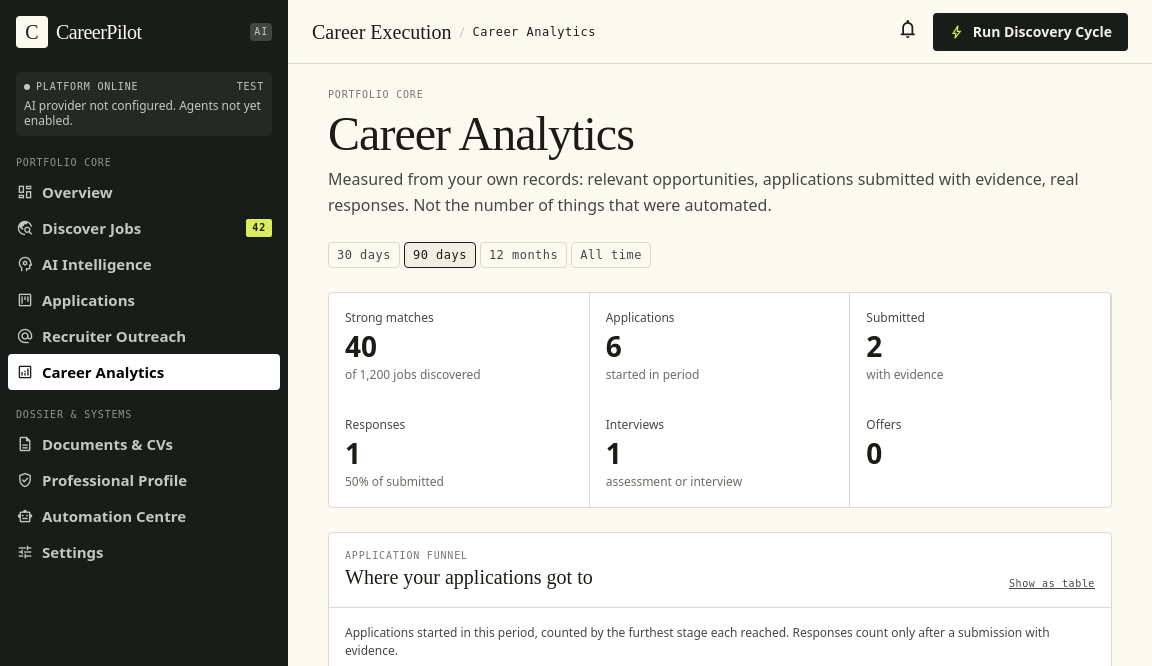
Test case: career analytics › shows funnel, low-sample rates and table views from the API, and generates a report
The image size is (1152, 666).
Expected: the heading "Career Analytics" is shown, [328,107,634,160]
Expected: the text "of 1,200 jobs discovered" is shown, [345,366,481,383]
# Every chart has a table view.
Click the button "Show as table" at (1052,584), box [1009,577,1095,591]
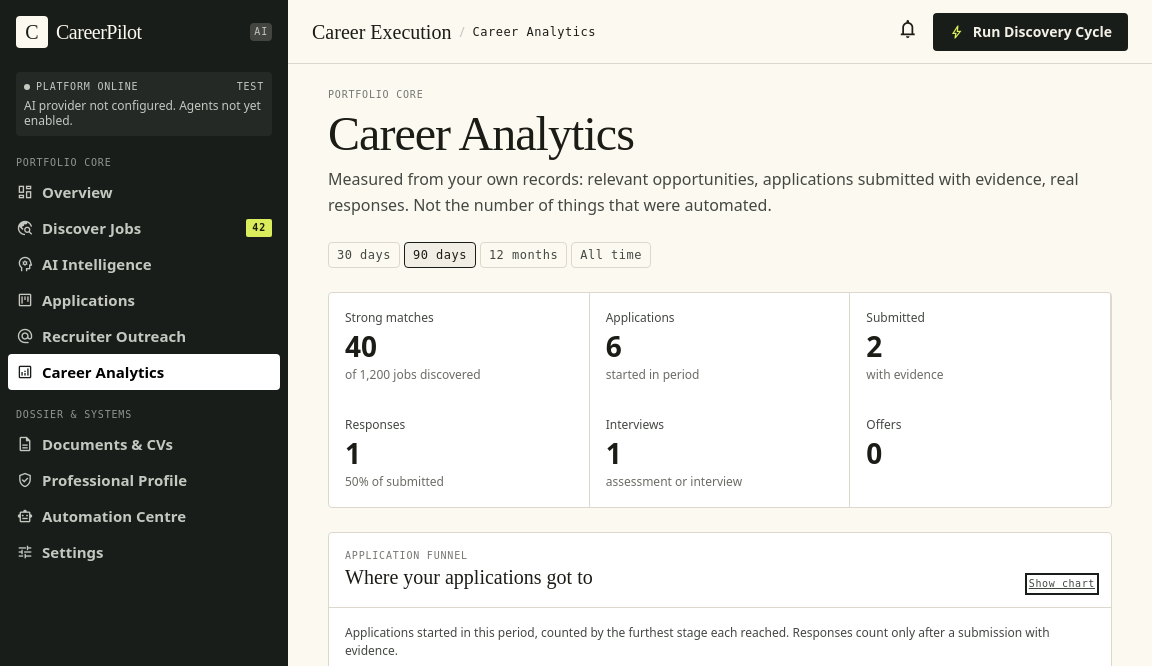
Click the button "30 days" at (364,255), box [328,242,400,268]
(page scrolled)
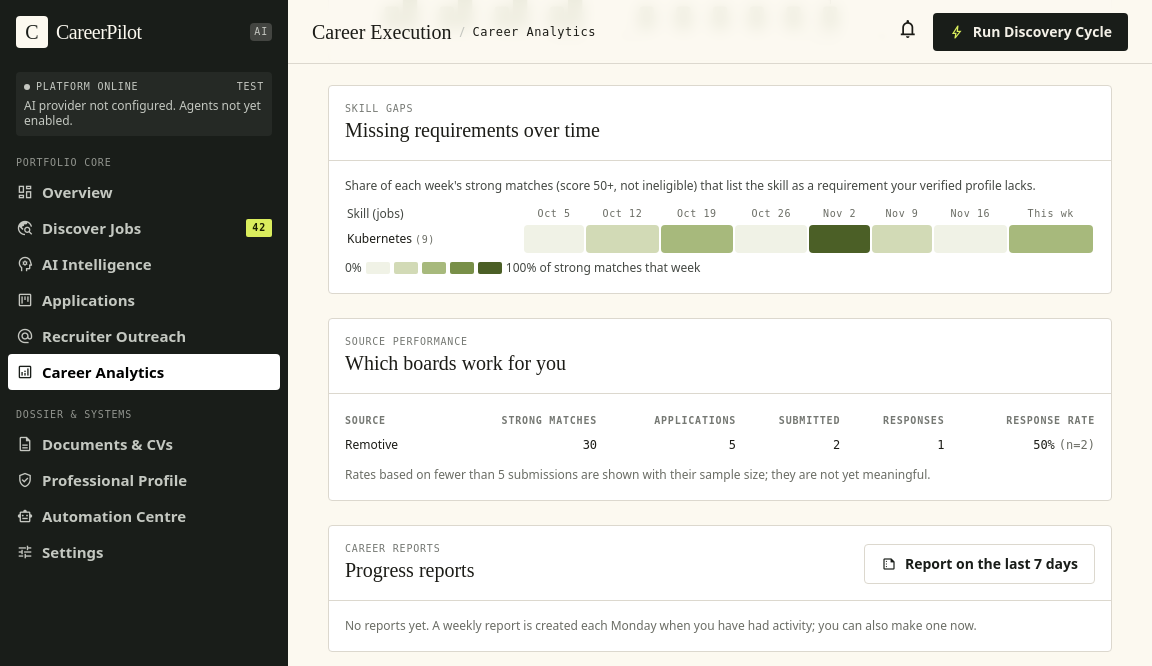
Expected: the text "No reports yet" is shown, [345,617,977,634]
Click the button "Report on the last 7 days" at (979,564), box [864,544,1095,584]
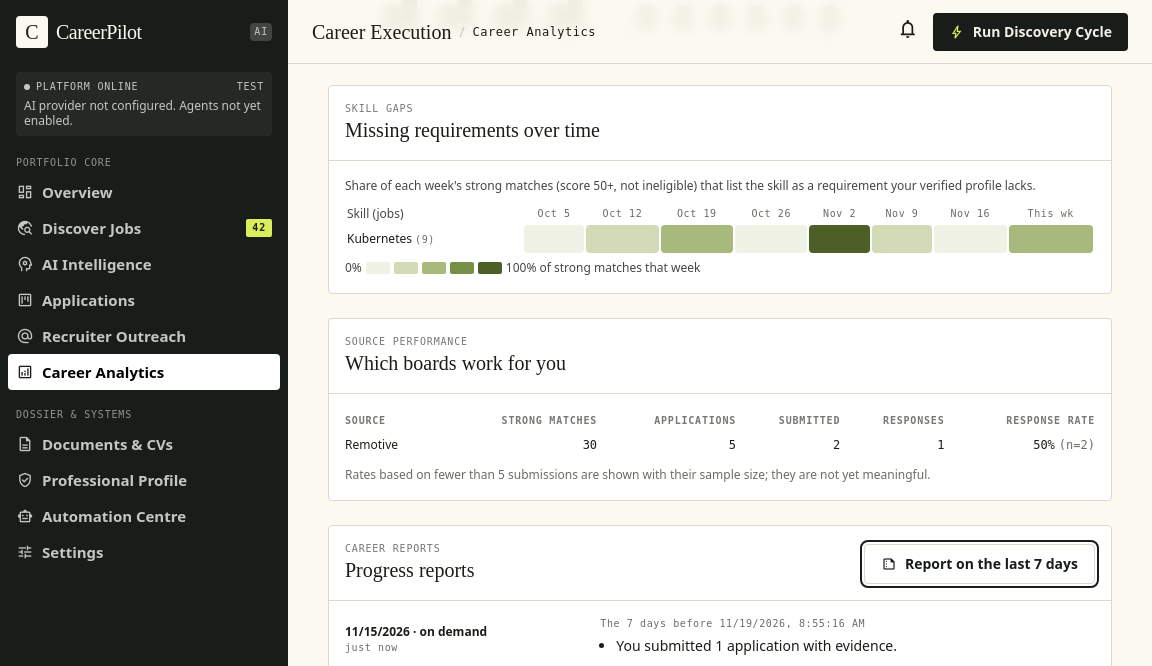
Expected: the list item "You submitted 1 application with evidence." is shown, [616,636,897,655]
